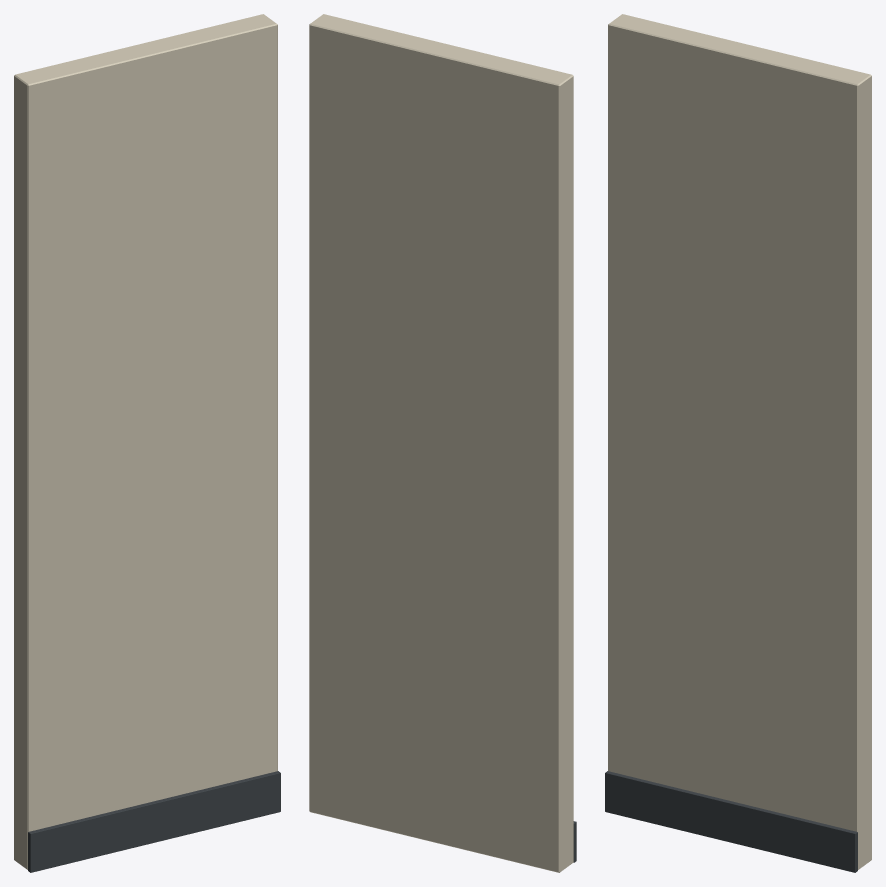
The model's file is WallPanel.fbx.
3 renders of one model, left to right at view 1: azimuth 30°, elevation 25°; view 2: azimuth 150°, elevation 25°; view 3: azimuth 330°, elevation 25°, orthographic.
Parts seen in each view (by area): view 1: MR_WallPanel_Body; view 2: MR_WallPanel_Body; view 3: MR_WallPanel_Body.
Boxes of the visible parts, <box> form: MR_WallPanel_Body: <box>14,14,280,872</box>; MR_WallPanel_Body: <box>309,14,576,872</box>; MR_WallPanel_Body: <box>605,14,871,872</box>.
Bounding box in the file's own units: 1 × 3 × 0.118.
